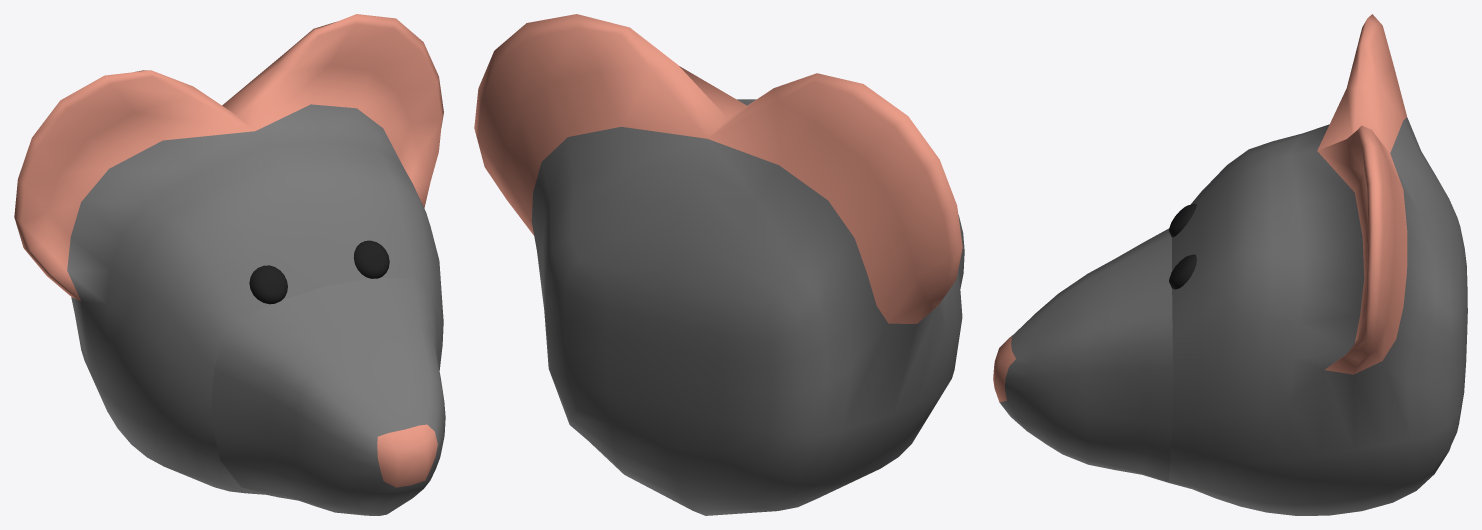
The model's file is RatModel.glb.
3 views of the same model, side by side, from view 1: azimuth 30°, elevation 25°; view 2: azimuth 150°, elevation 25°; view 3: azimuth 270°, elevation 25° (orthographic). The views are drawn at different scales.
Visible parts, largest first — view 1: Rato; view 2: Rato; view 3: Rato.
Boxes of the visible parts, x1,y1,x2,y2 form: Rato: [14, 14, 445, 515]; Rato: [474, 14, 964, 515]; Rato: [993, 14, 1467, 515].
Bounding box in the file's own units: 1.06 × 0.9773 × 0.9907.
